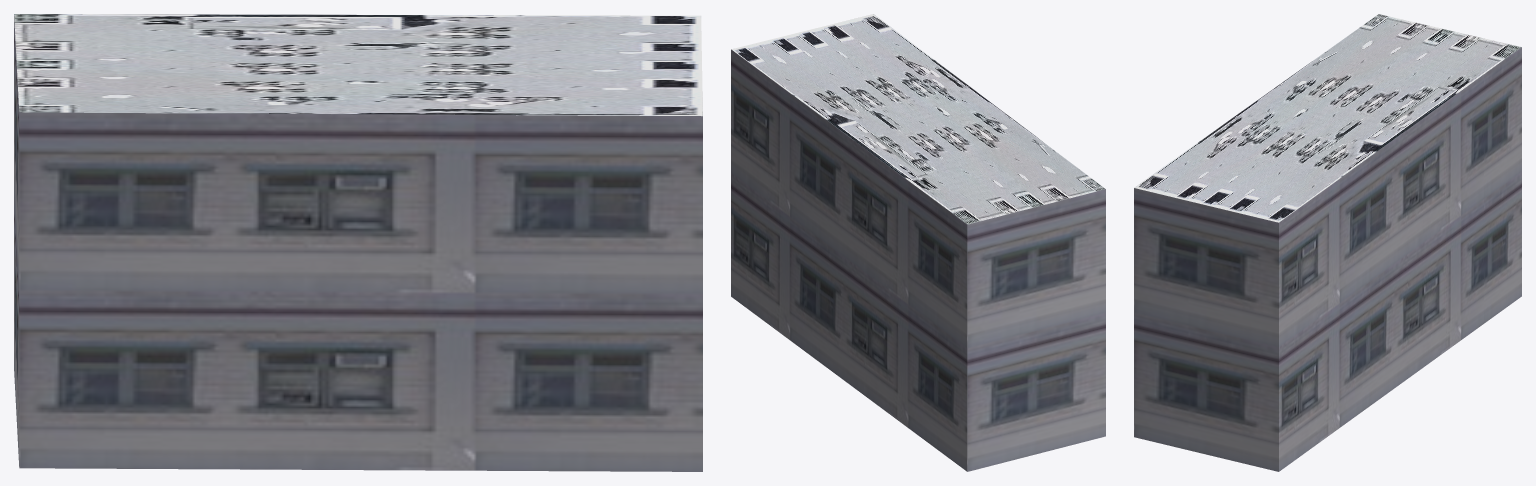
File: ResTex__715.fbx
3 renders of one model, left to right at view 1: azimuth 30°, elevation 25°; view 2: azimuth 150°, elevation 25°; view 3: azimuth 270°, elevation 25°, orthographic. The views are drawn at different scales.
Visible parts, largest first — view 1: CityEngineMaterial_1_m, CityEngineMaterial_8_m; view 2: CityEngineMaterial_1_m, CityEngineMaterial_8_m; view 3: CityEngineMaterial_1_m, CityEngineMaterial_8_m.
Boxes of the visible parts, left/top/right/bottom form: CityEngineMaterial_1_m: left=14, top=16, right=702, bottom=471; CityEngineMaterial_8_m: left=14, top=14, right=702, bottom=116; CityEngineMaterial_1_m: left=731, top=49, right=1105, bottom=471; CityEngineMaterial_8_m: left=731, top=14, right=1105, bottom=224; CityEngineMaterial_1_m: left=1134, top=47, right=1521, bottom=471; CityEngineMaterial_8_m: left=1134, top=14, right=1521, bottom=222.
Bounding box in the file's own units: 10.78 × 6 × 8.46.
Materials: 2 (2 with a texture image).
